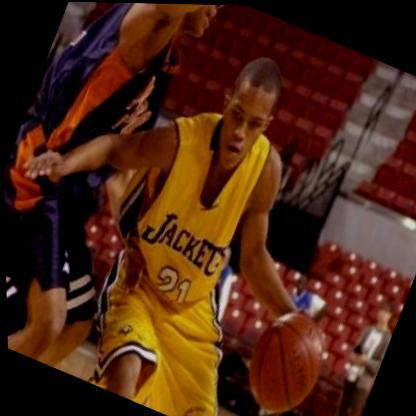basketball: (220, 286, 348, 416)
